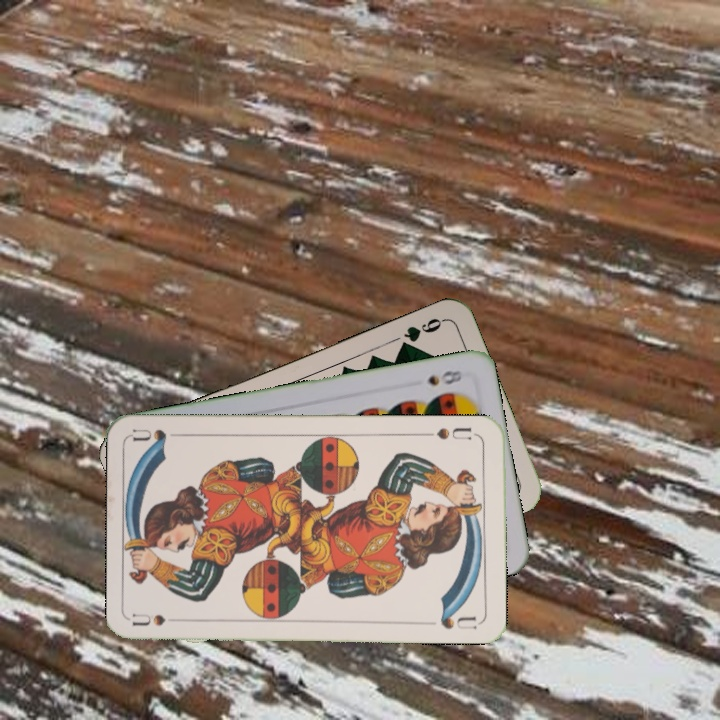G9: (395, 314, 447, 353)
S8: (423, 366, 465, 388)
SU: (422, 423, 474, 442), (131, 610, 168, 629)
